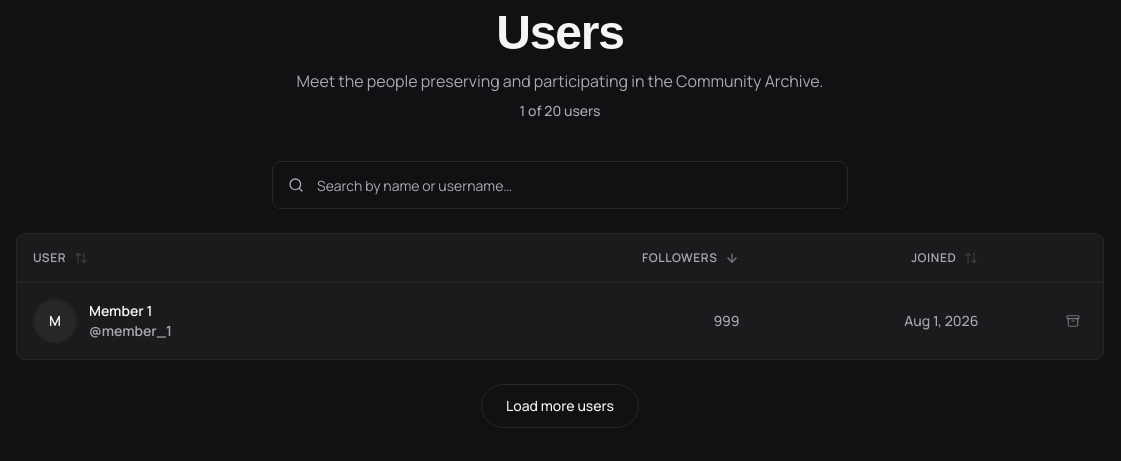
it: UserDirectoryClient › retries a failed search from the first page without showing unrelated users
In the field named "Search users": (560, 185) [272,161,848,209], type "member_2"
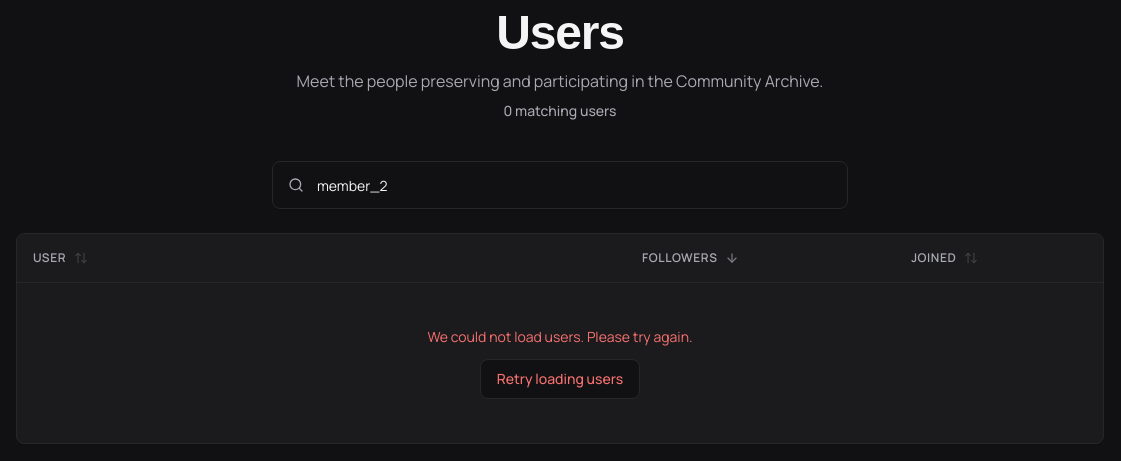
Now the link "Member 1" is gone
Now the button "Load more users" is gone
Click the button "Retry loading users": (560, 379) [480,359,640,399]
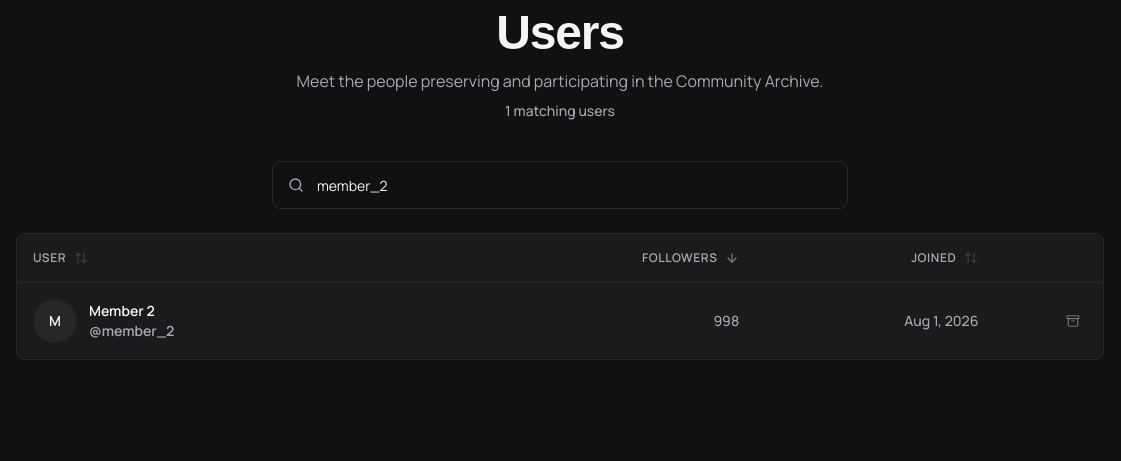
Now the link "M Member 2 @member_2" is shown, box [33,299,174,343]
